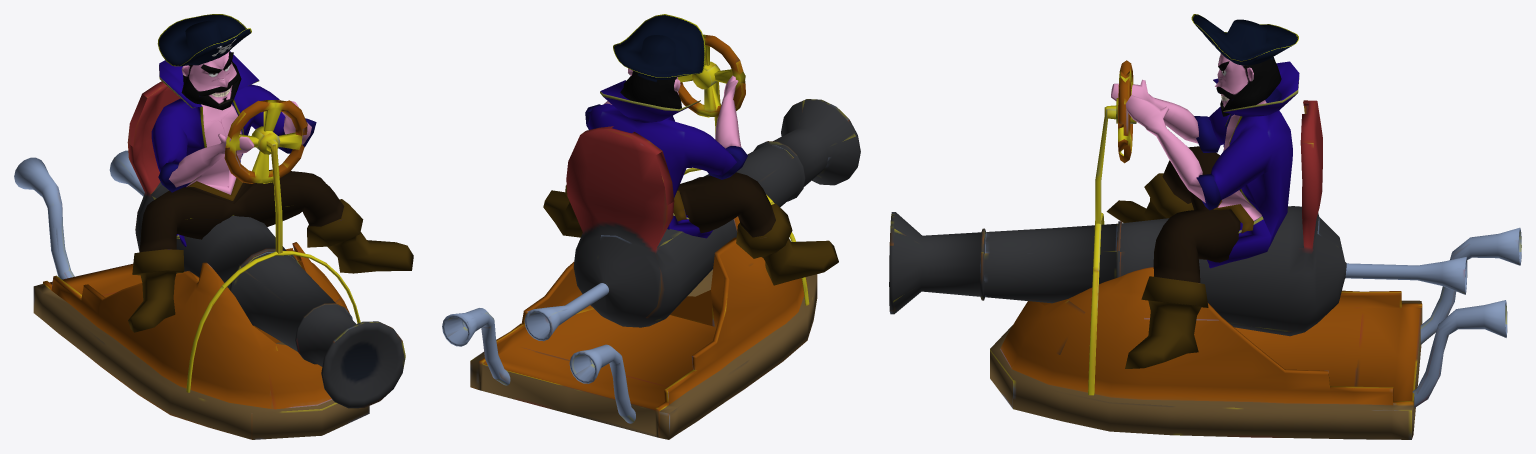
The model's file is PirataHabilidad_000190.obj.
3 renders of one model, left to right at view 1: azimuth 30°, elevation 25°; view 2: azimuth 150°, elevation 25°; view 3: azimuth 270°, elevation 25°, orthographic. The views are drawn at different scales.
Visible parts, largest first — view 1: carro_pirata_carro_pirata.001, Pirata_PirataH; view 2: carro_pirata_carro_pirata.001, Pirata_PirataH; view 3: carro_pirata_carro_pirata.001, Pirata_PirataH.
Boxes of the visible parts, x1,y1,x2,y2 form: carro_pirata_carro_pirata.001: (14, 81, 405, 439); Pirata_PirataH: (128, 14, 413, 332); carro_pirata_carro_pirata.001: (442, 34, 860, 439); Pirata_PirataH: (543, 14, 838, 285); carro_pirata_carro_pirata.001: (889, 60, 1521, 439); Pirata_PirataH: (1106, 14, 1299, 368).
Bounding box in the file's own units: 6.97 × 7.64 × 12.1.
